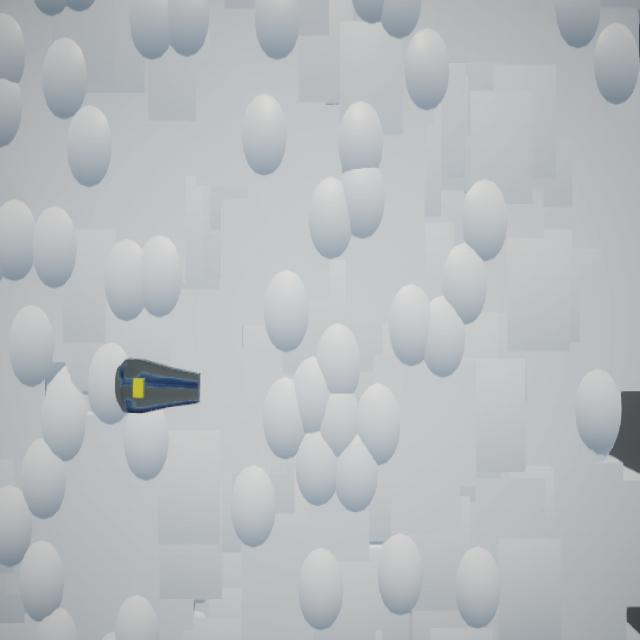handle_knife: (116, 359, 201, 416)
